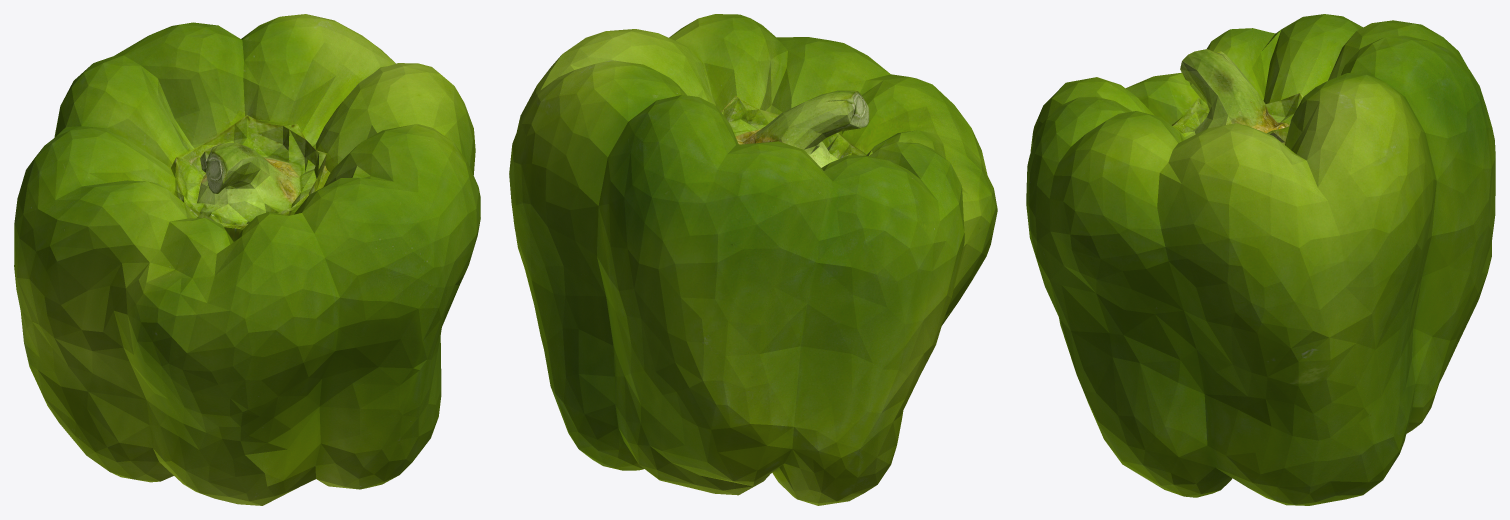
File: 7VL6KD7Y445WIE4WKZZJ6LOQ3.obj
3 renders of one model, left to right at view 1: azimuth 30°, elevation 25°; view 2: azimuth 150°, elevation 25°; view 3: azimuth 270°, elevation 25°, orthographic. The views are drawn at different scales.
Visible parts, largest first — view 1: Object_TexMap; view 2: Object_TexMap; view 3: Object_TexMap.
Part boxes in pixels (bbox=[...]): Object_TexMap: bbox=[14, 14, 480, 505]; Object_TexMap: bbox=[509, 14, 997, 505]; Object_TexMap: bbox=[1026, 14, 1495, 505].
Bounding box in the file's own units: 2.5 × 2.23 × 2.31.
1 material, 1 textured.
